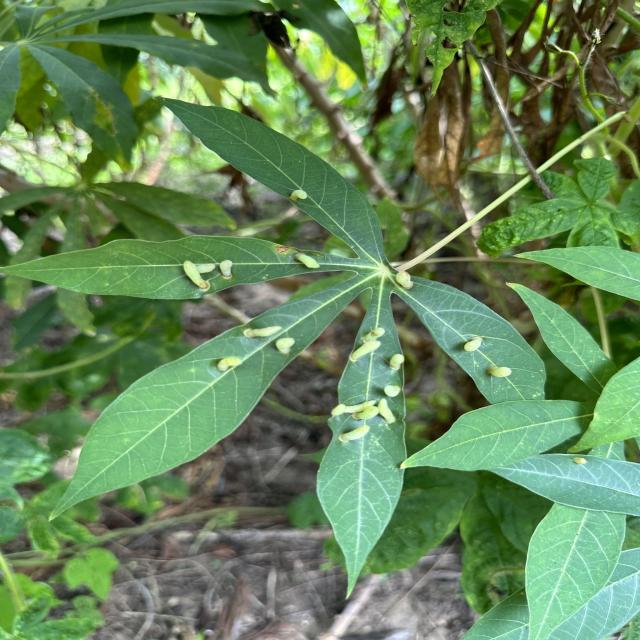Maleza: (0, 516, 102, 634), (512, 163, 640, 245)
Mosca: (326, 382, 401, 452), (240, 314, 303, 364), (371, 347, 414, 412), (177, 252, 240, 292), (349, 319, 384, 361), (475, 361, 528, 385), (285, 246, 324, 274), (219, 345, 245, 381), (383, 260, 415, 288), (280, 188, 316, 211), (556, 449, 592, 472), (457, 336, 485, 355)
